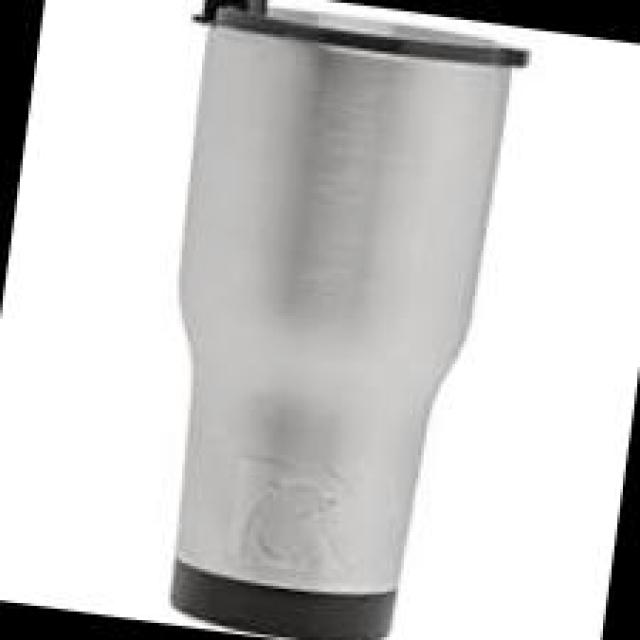bottle: (102, 0, 529, 640)
